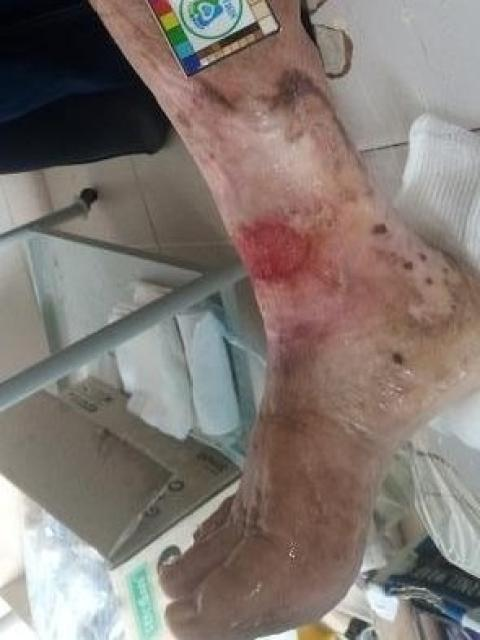wound: (230, 219, 309, 289)
